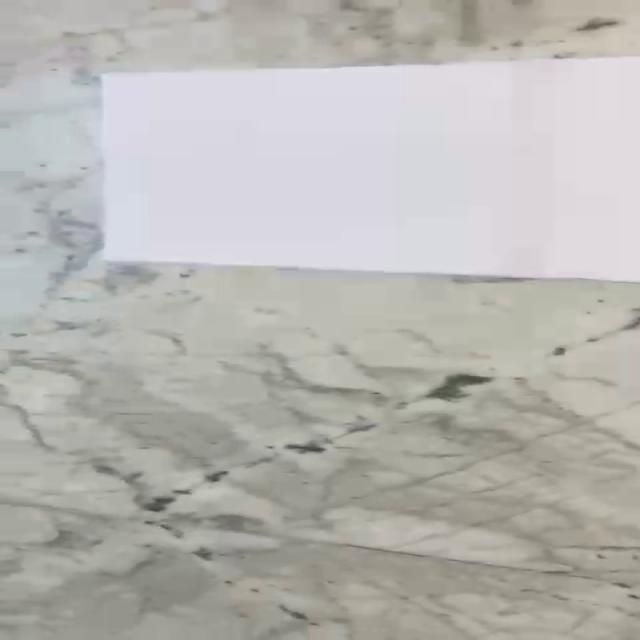road: (99, 54, 640, 282)
